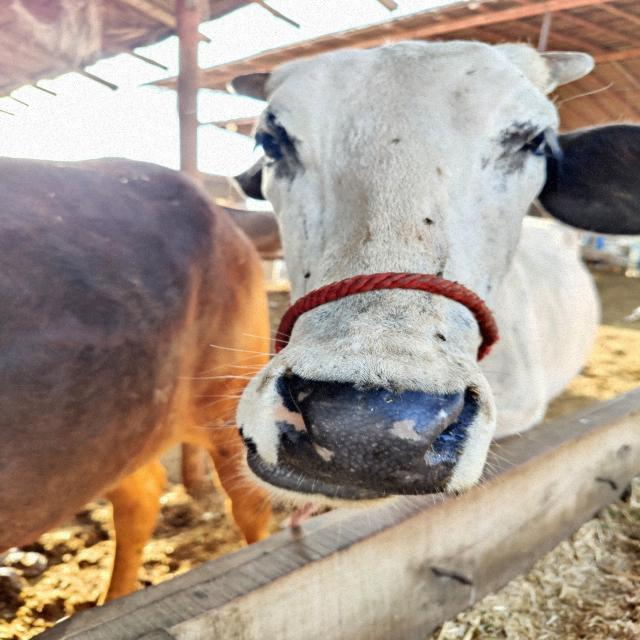muzzles: (256, 362, 489, 507)
